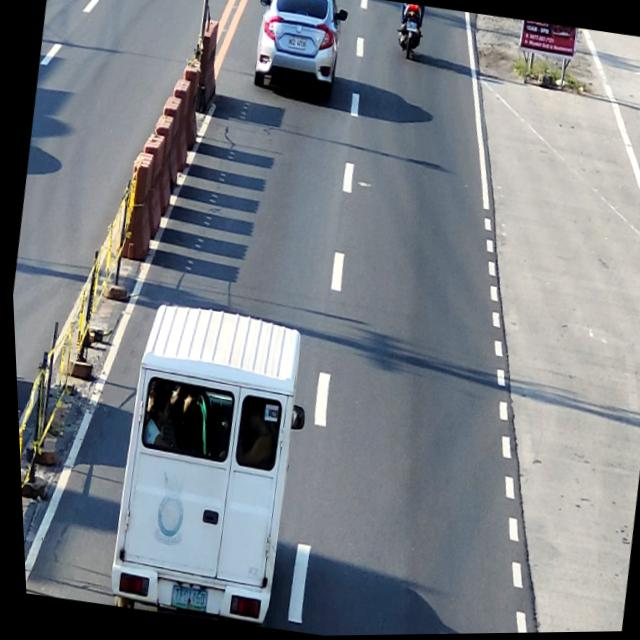Car: (91, 296, 325, 633), (246, 0, 354, 99)
License-Plate: (286, 37, 307, 53), (406, 23, 417, 34)
Motorcycle: (395, 4, 426, 62)
